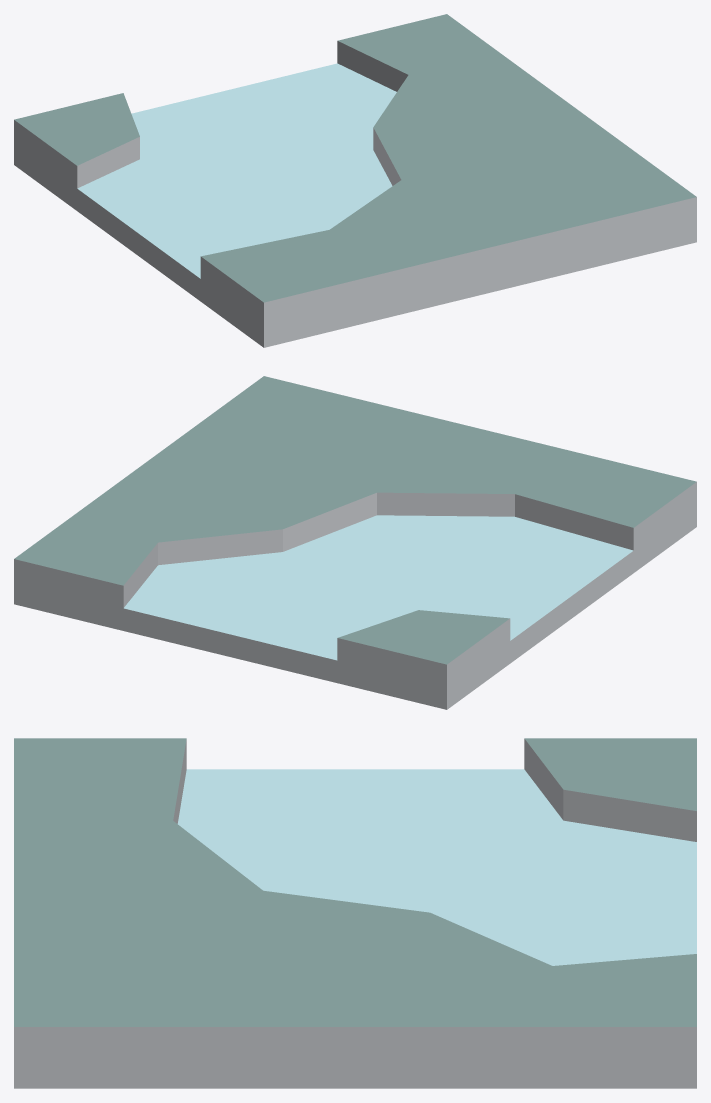
Rendered from rivercorner.gltf.
3 views of the same model, one above another, from view 1: azimuth 30°, elevation 25°; view 2: azimuth 150°, elevation 25°; view 3: azimuth 270°, elevation 25° (orthographic). The views are drawn at different scales.
Parts seen in each view (by area): view 1: Mesh1 Plate_River_Corner Model; view 2: Mesh1 Plate_River_Corner Model; view 3: Mesh1 Plate_River_Corner Model.
Part boxes in pixels (x1,y1,x2,y2): Mesh1 Plate_River_Corner Model: (14,14,696,347); Mesh1 Plate_River_Corner Model: (14,376,696,709); Mesh1 Plate_River_Corner Model: (14,738,696,1088).
Bounding box in the file's own units: 3 × 0.3 × 3.
